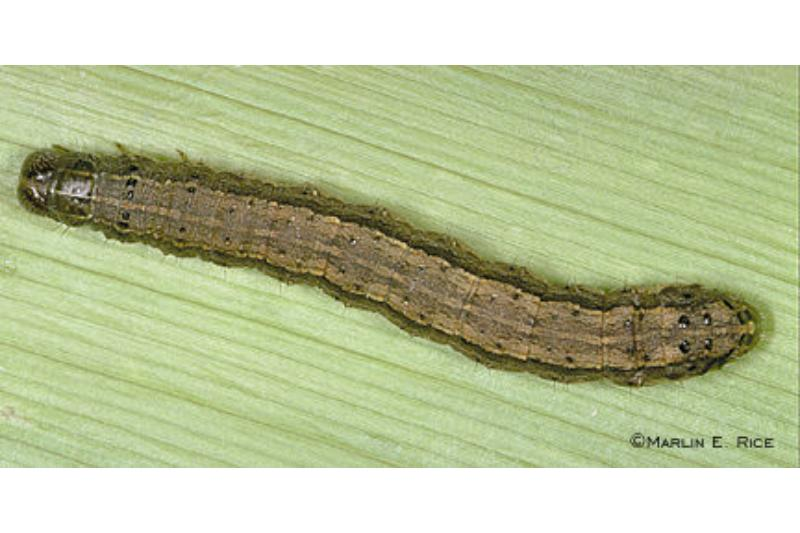fall-armyworm: (18, 147, 762, 390)
